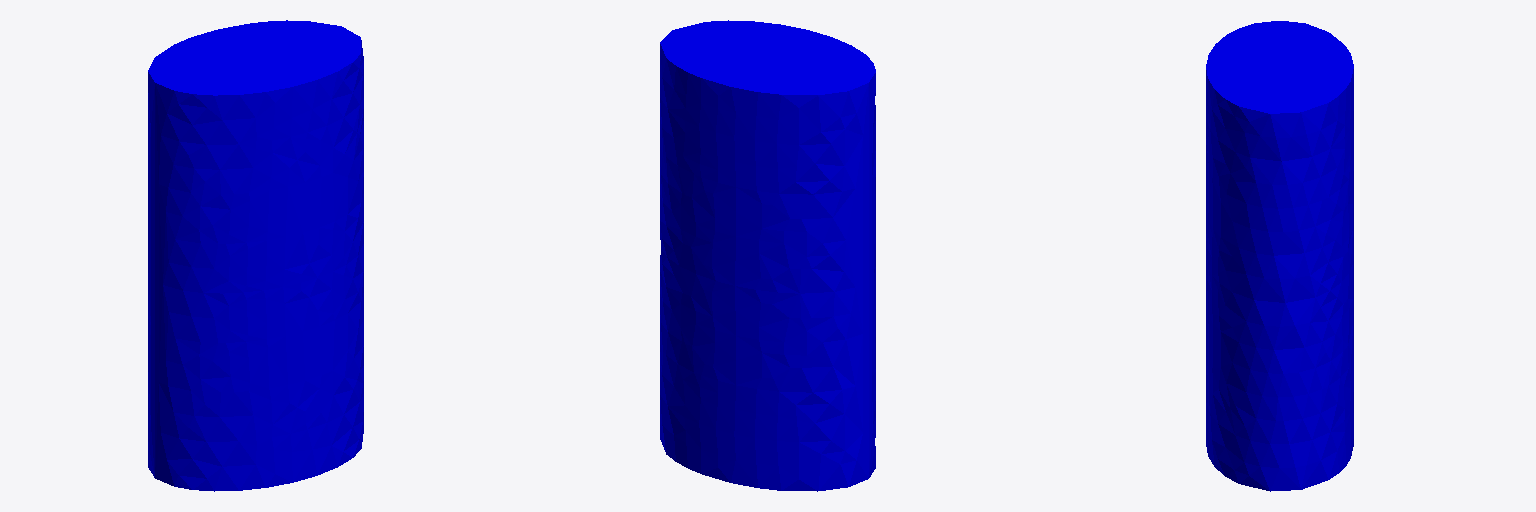
URDF robot description (Large_Short_Oval_DarkBlue):
<?xml version="1.0"?>
<robot name="Large_Short_Oval_DarkBlue">
    <link name="Large_Short_Oval_DarkBlue">
        <visual>
            <geometry>
                <mesh filename="../mesh/factory_insertion/Large_Short_Oval_DarkBlue.obj" scale="0.001 0.001 0.001"/>
            </geometry>
            <material name="DarkBlue">
              <color rgba="0 0 1.0 0"/>
            </material>
        </visual>
        <collision>
            <geometry>
                <mesh filename="../mesh/factory_insertion/Large_Short_Oval_DarkBlue.obj" scale="0.001 0.001 0.001"/>
            </geometry>
            <sdf resolution="512"/>
        </collision>
    </link>
</robot>

--- Render facts (derived) ---
3 views of the same robot in one strip: view 1: azimuth 30°, elevation 25°; view 2: azimuth 150°, elevation 25°; view 3: azimuth 270°, elevation 25° (orthographic).
Robot: Large_Short_Oval_DarkBlue — 1 links, 0 joints (none); root link Large_Short_Oval_DarkBlue; default pose: every joint at zero.
Links seen in each view (by area): view 1: Large_Short_Oval_DarkBlue; view 2: Large_Short_Oval_DarkBlue; view 3: Large_Short_Oval_DarkBlue.
Link boxes in pixels (x1=…): Large_Short_Oval_DarkBlue: x1=148, y1=20, x2=363, y2=491; Large_Short_Oval_DarkBlue: x1=660, y1=20, x2=875, y2=491; Large_Short_Oval_DarkBlue: x1=1206, y1=21, x2=1353, y2=491.
Size in the robot's own frame: 0.0534 by 0.0356 by 0.1 metres.
Meshes: 1 distinct files referenced, 1 mesh visuals loaded (1 OBJ).
